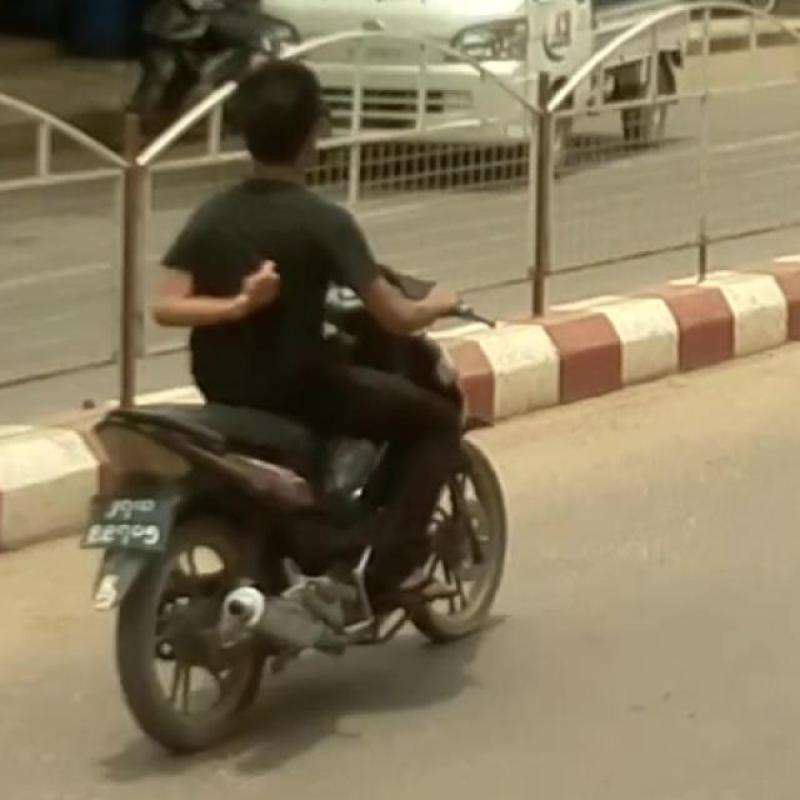nohelmet: (220, 44, 368, 187)
